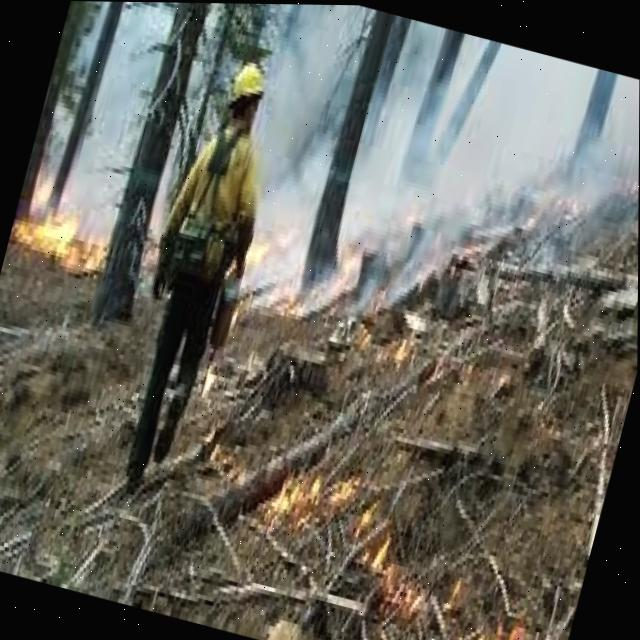smoke: (32, 1, 640, 279), (249, 250, 302, 286), (304, 286, 333, 305)
